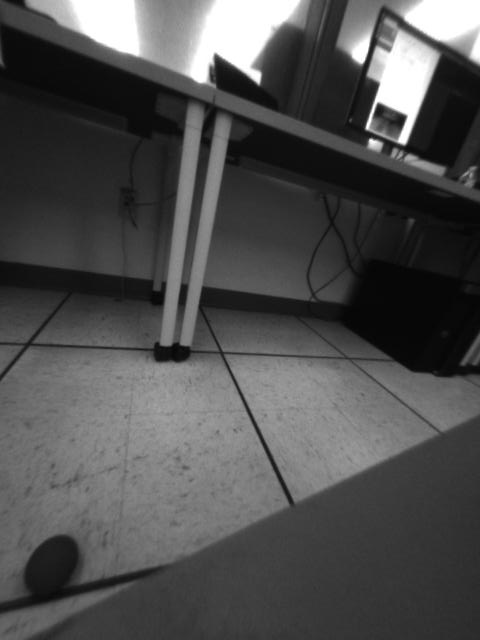dogtoy: (9, 524, 88, 600)
